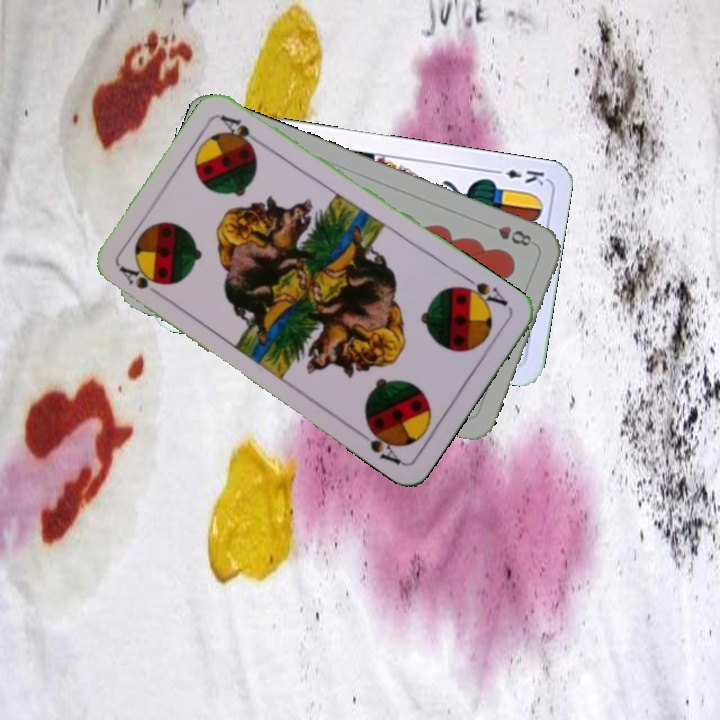EK: (488, 165, 547, 188)
H8: (481, 219, 538, 249)
SA: (455, 272, 511, 312), (114, 261, 169, 301)
